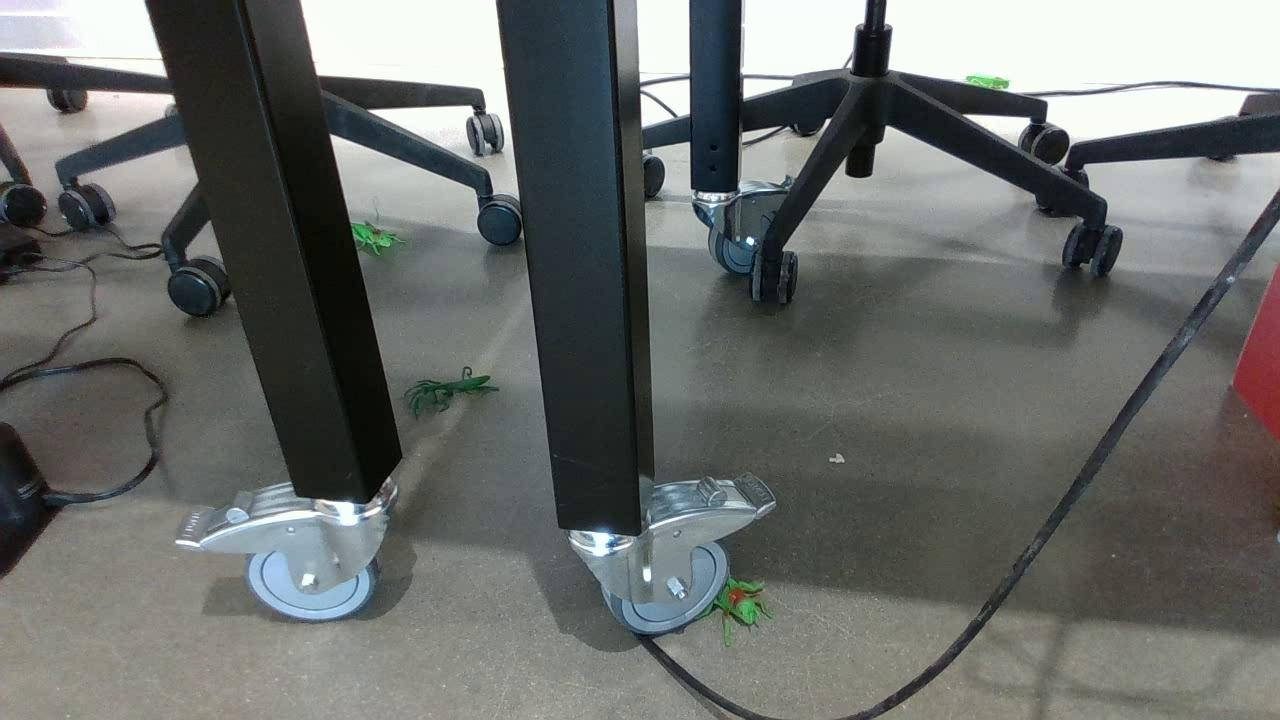grasshopper: (702, 573, 778, 640), (347, 219, 405, 262), (967, 74, 1013, 96)
